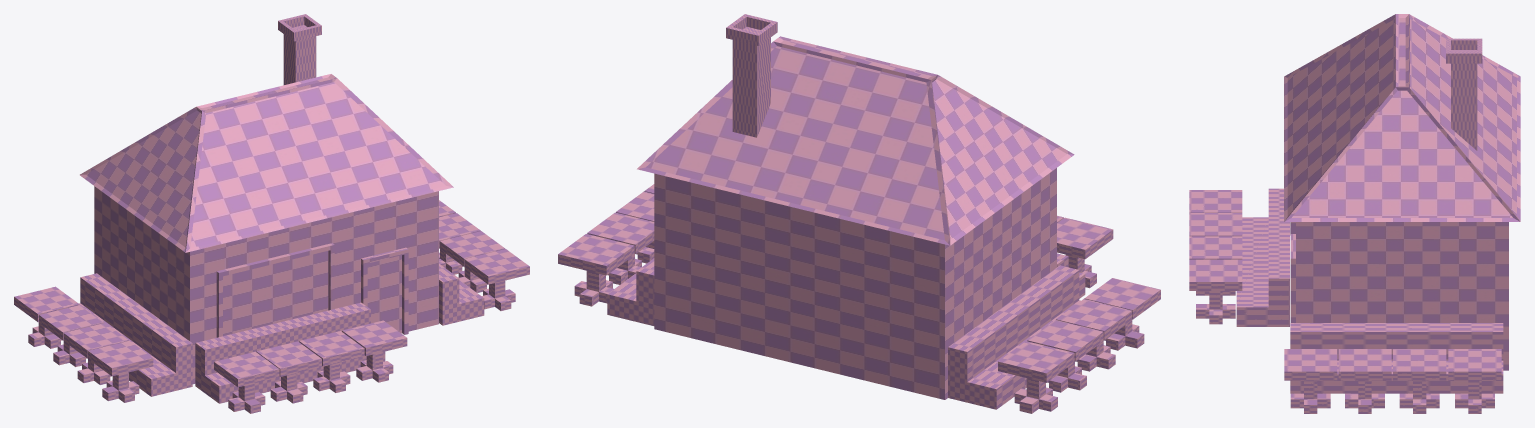
File: Solbourg_Restaurant.fbx
The picture shows the model from 3 angles, left to right: view 1: azimuth 30°, elevation 25°; view 2: azimuth 150°, elevation 25°; view 3: azimuth 270°, elevation 25°; orthographic projection. The views are drawn at different scales.
Parts seen in each view (by area): view 1: Restaurant, Tables, Bancs, Cheminée; view 2: Restaurant, Tables, Bancs, Cheminée; view 3: Restaurant, Tables, Bancs, Cheminée.
Boxes of the visible parts, left/top/right/bottom form: Restaurant: left=80, top=74, right=453, bottom=384; Tables: left=14, top=200, right=529, bottom=413; Bancs: left=79, top=263, right=484, bottom=403; Cheminée: left=278, top=14, right=321, bottom=84; Restaurant: left=637, top=36, right=1074, bottom=399; Tables: left=558, top=184, right=1160, bottom=413; Bancs: left=607, top=253, right=1085, bottom=409; Cheminée: left=726, top=14, right=777, bottom=137; Restaurant: left=1284, top=14, right=1520, bottom=370; Tables: left=1189, top=190, right=1501, bottom=413; Bancs: left=1236, top=188, right=1503, bottom=393; Cheminée: left=1446, top=38, right=1482, bottom=150.
Bounding box in the file's own units: 1007 × 601 × 623.
4 materials, 4 textured.
